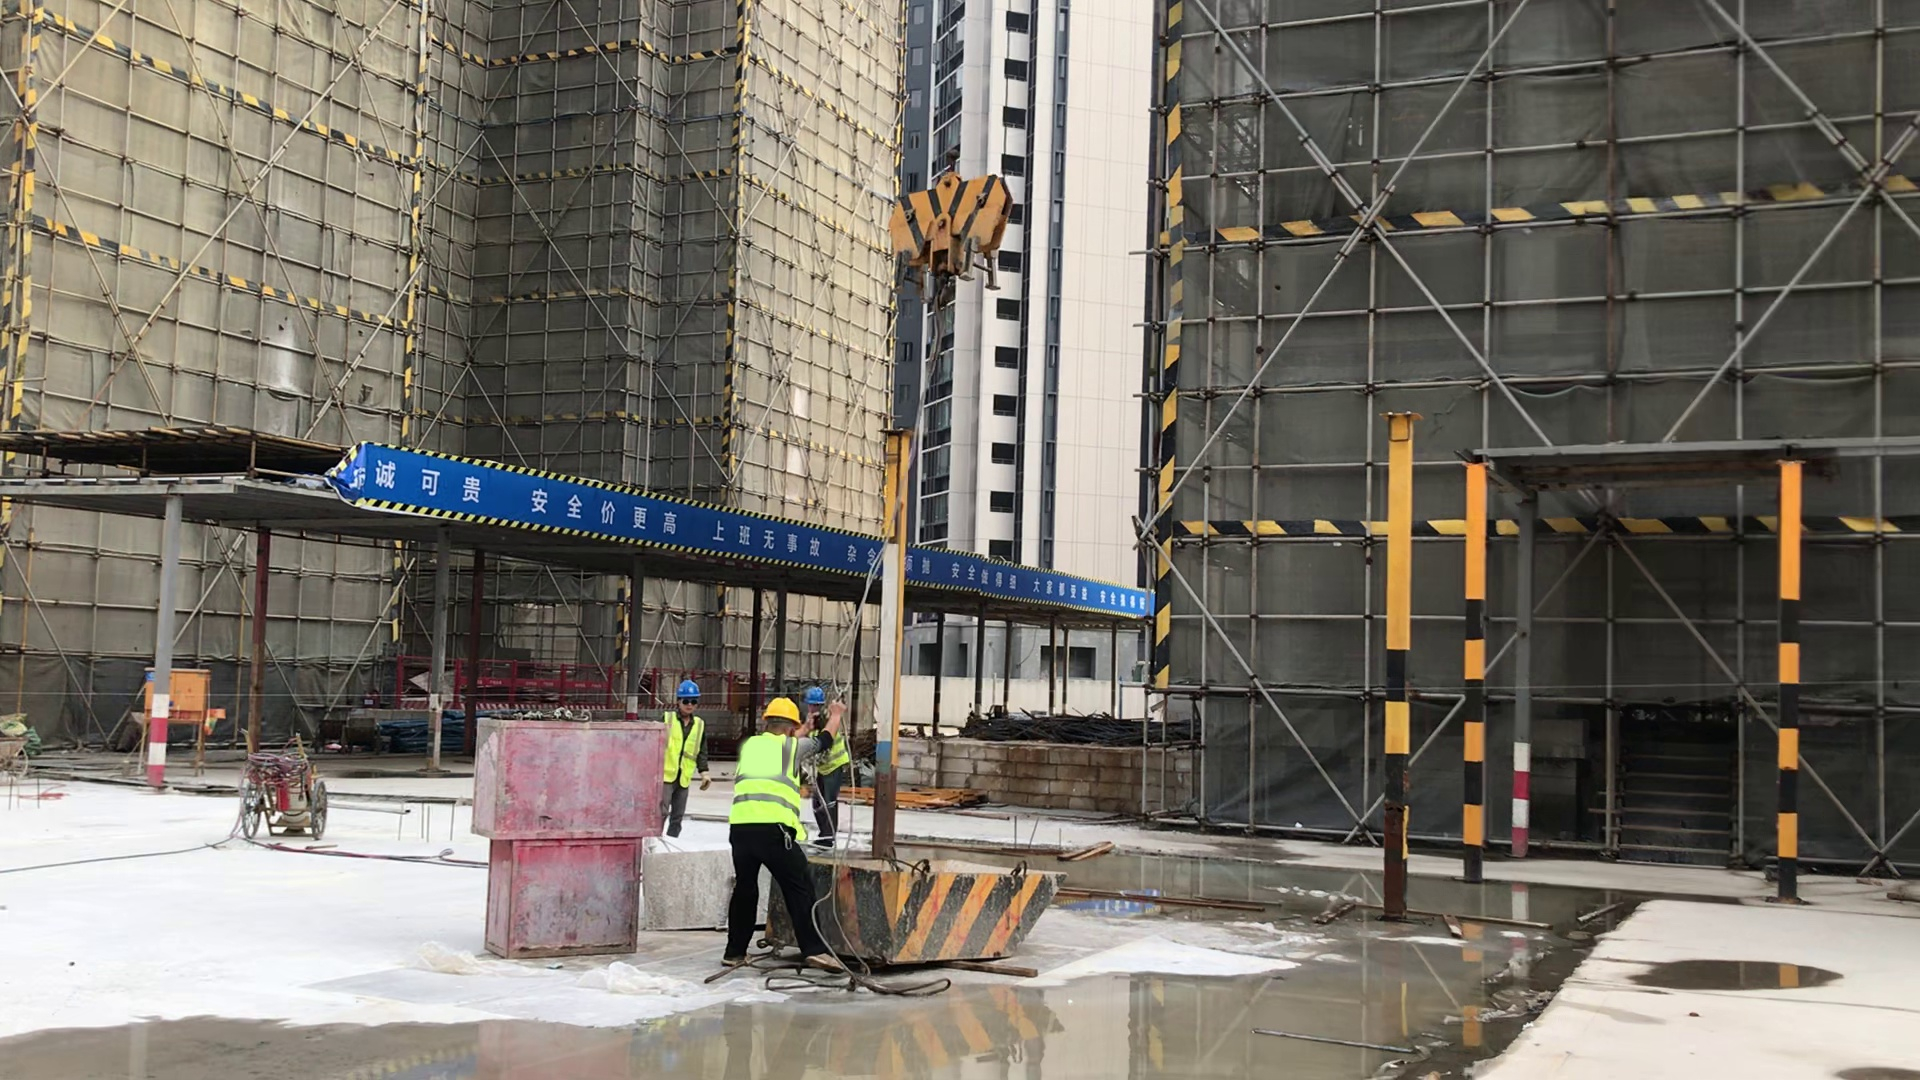ebox: (144, 661, 216, 726)
fence: (396, 651, 762, 708)
helmet: (760, 697, 803, 726), (673, 678, 706, 699), (807, 684, 829, 705)
hook: (875, 149, 1024, 311)
hopper: (756, 849, 1060, 972)
person: (719, 693, 849, 976), (649, 678, 711, 842), (803, 684, 858, 851)
slogan: (363, 442, 1153, 613)
vest: (730, 732, 808, 835), (657, 712, 700, 789), (807, 717, 849, 776)
